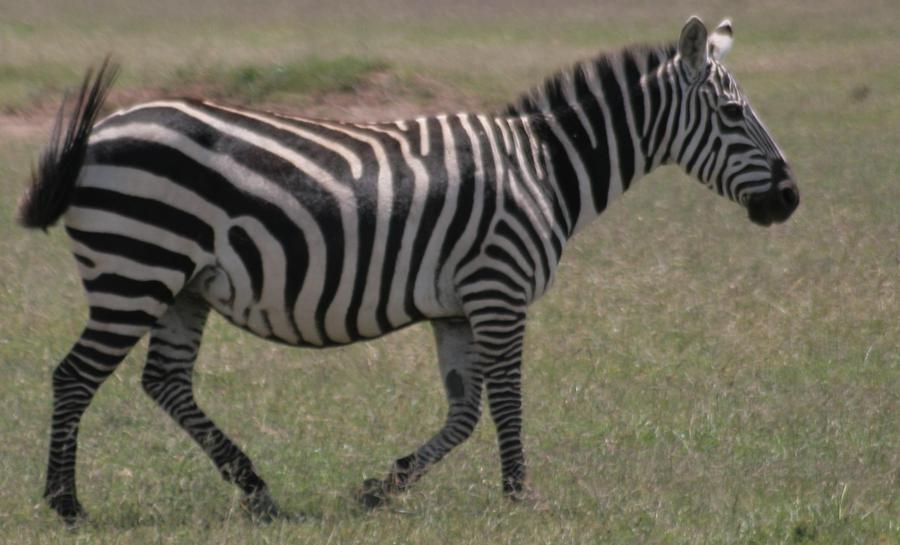zebra_plains: (50, 83, 551, 330)
